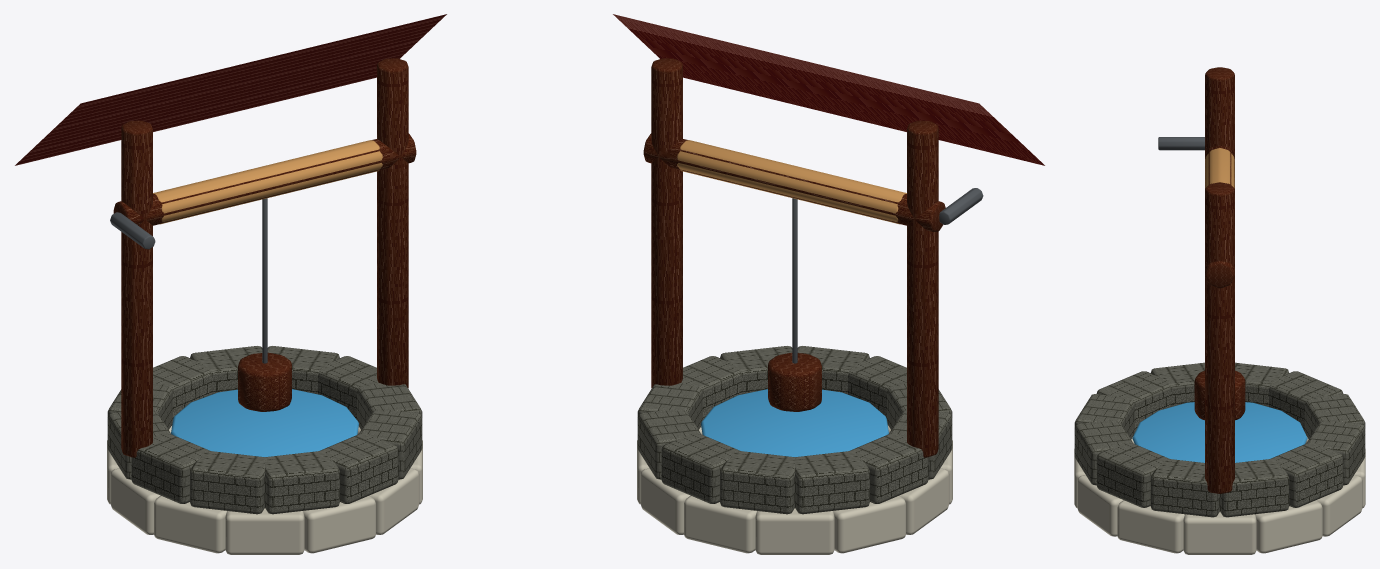
The model's file is well.glb.
3 views of the same model, side by side, from view 1: azimuth 30°, elevation 25°; view 2: azimuth 150°, elevation 25°; view 3: azimuth 270°, elevation 25° (orthographic). The views are drawn at different scales.
Parts seen in each view (by area): view 1: well_stone, well_wood, well_roof, well_stone_light, well_water, well_spool, well_iron; view 2: well_stone, well_wood, well_roof, well_stone_light, well_water, well_spool, well_iron; view 3: well_stone, well_wood, well_stone_light, well_water, well_spool, well_iron.
Part boxes in pixels (x1,y1,x2,y2): well_stone: (107,346,422,514); well_wood: (113,58,416,457); well_roof: (15,14,446,165); well_stone_light: (107,426,422,554); well_water: (171,389,358,456); well_spool: (153,140,382,224); well_iron: (110,198,267,363); well_stone: (637,346,952,514); well_wood: (643,58,945,457); well_roof: (613,14,1044,165); well_stone_light: (637,426,952,554); well_water: (701,389,888,456); well_spool: (677,140,906,224); well_iron: (792,188,983,363); well_stone: (1074,362,1365,517); well_wood: (1194,67,1245,493); well_stone_light: (1074,437,1365,554); well_water: (1132,402,1307,462); well_spool: (1205,148,1234,188); well_iron: (1158,137,1204,150).
Bounding box in the file's own units: 3.3 × 3.71 × 2.46.
Materials: 7 (3 with a texture image).
